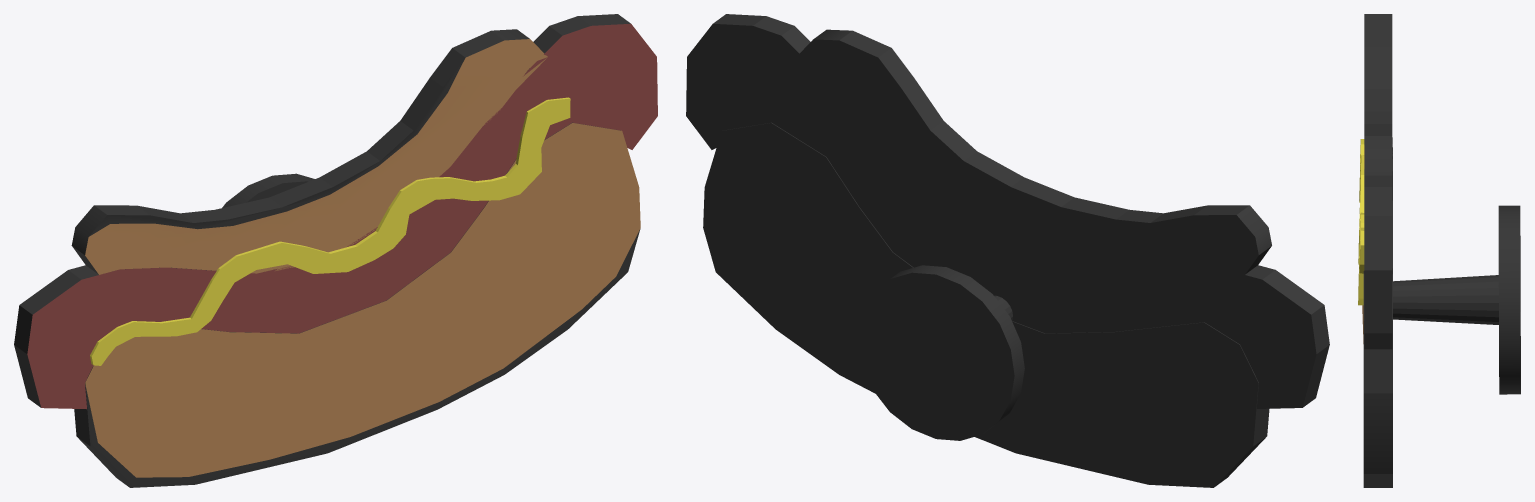
File: hotdog.fbx
3 renders of one model, left to right at view 1: azimuth 30°, elevation 25°; view 2: azimuth 150°, elevation 25°; view 3: azimuth 270°, elevation 25°, orthographic. The views are drawn at different scales.
Parts seen in each view (by area): view 1: pCylinder9; view 2: pCylinder9; view 3: pCylinder9.
Part boxes in pixels (<box>): pCylinder9: <box>14,14,657,487</box>; pCylinder9: <box>686,14,1329,487</box>; pCylinder9: <box>1358,14,1520,487</box>.
Bounding box in the file's own units: 5.65 × 3.16 × 1.2.
